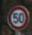Speed Limit -50-: (0, 0, 31, 34)
